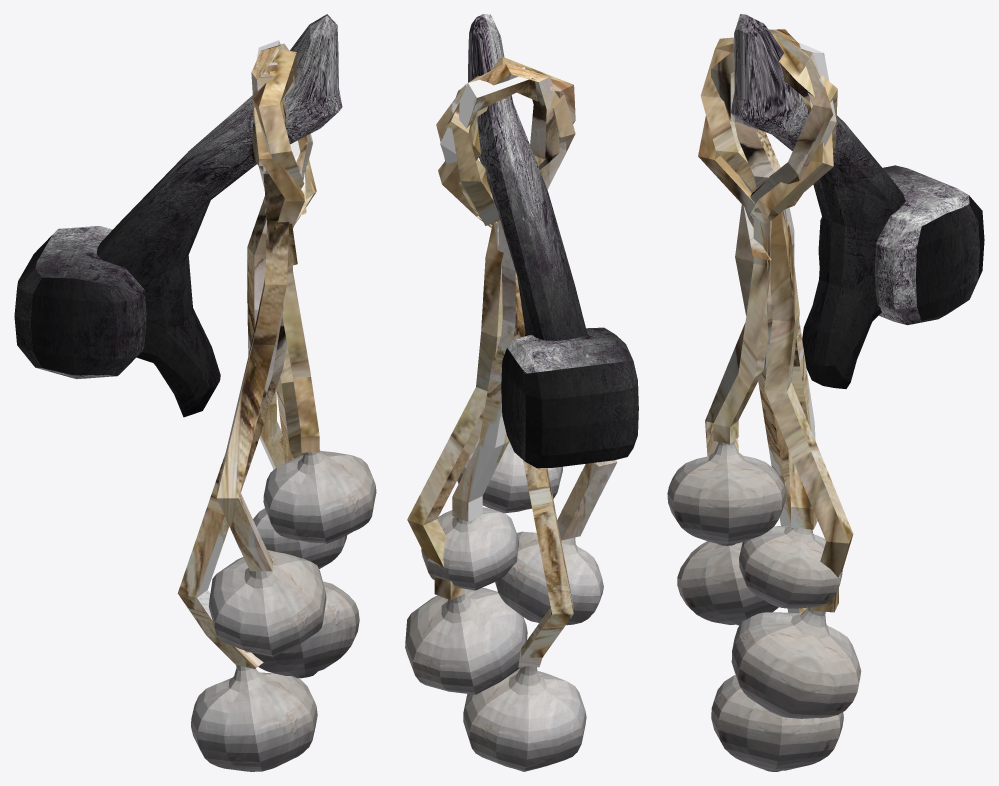
File: HookNGarlic.fbx
3 renders of one model, left to right at view 1: azimuth 30°, elevation 25°; view 2: azimuth 150°, elevation 25°; view 3: azimuth 270°, elevation 25°, orthographic. The views are drawn at different scales.
Parts seen in each view (by area): view 1: Cube.105, Cube.086, Cube.090; view 2: Cube.086, Cube.090, Cube.105; view 3: Cube.086, Cube.090, Cube.105.
Part boxes in pixels (box(x1,y1,x2,y2)): Cube.105: box(14, 14, 342, 417); Cube.086: box(191, 450, 376, 771); Cube.090: box(177, 40, 319, 668); Cube.086: box(405, 437, 603, 771); Cube.090: box(407, 57, 617, 667); Cube.105: box(468, 14, 638, 468); Cube.086: box(667, 441, 861, 771); Cube.090: box(698, 29, 853, 613); Cube.105: box(731, 14, 984, 388).
Bounding box in the file's own units: 77.39 × 194 × 71.29.
